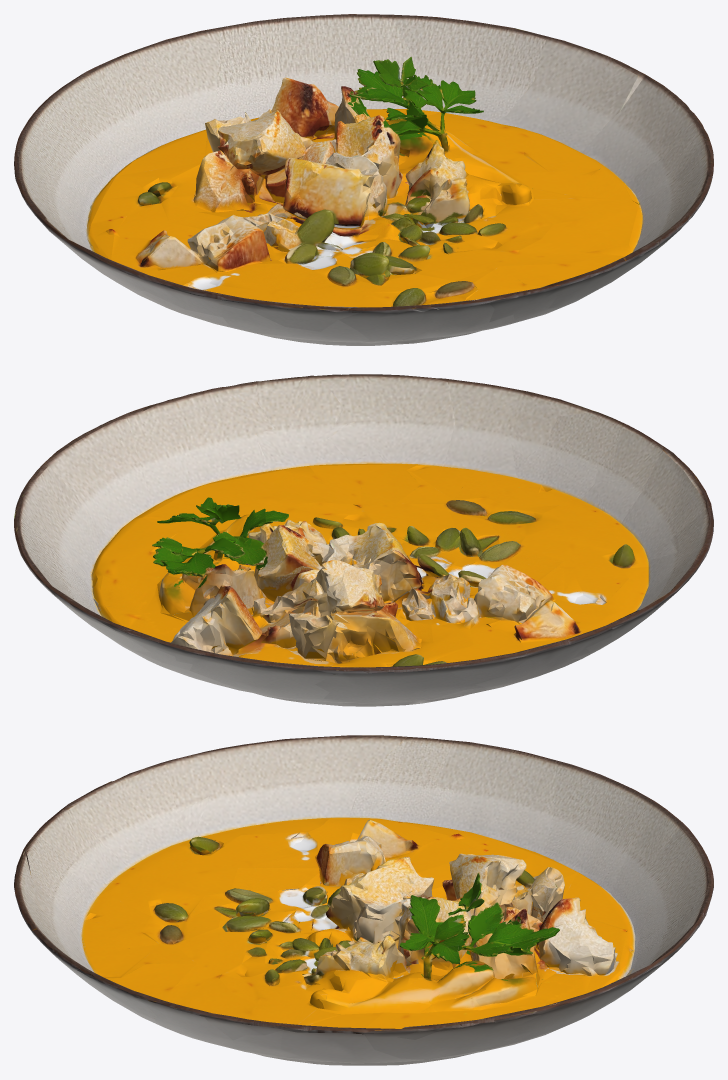
The model's file is krem-z-dyni.glb.
3 views of the same model, one above another, from view 1: azimuth 30°, elevation 25°; view 2: azimuth 150°, elevation 25°; view 3: azimuth 270°, elevation 25° (orthographic).
Visible parts, largest first — view 1: output_unwrapped; view 2: output_unwrapped; view 3: output_unwrapped.
Boxes of the visible parts, x1,y1,x2,y2 form: output_unwrapped: (14,14,713,345); output_unwrapped: (14,374,713,706); output_unwrapped: (14,735,713,1065).
Size of the model in its own units: 1.9 by 0.417 by 1.9.
1 material, 1 textured.
